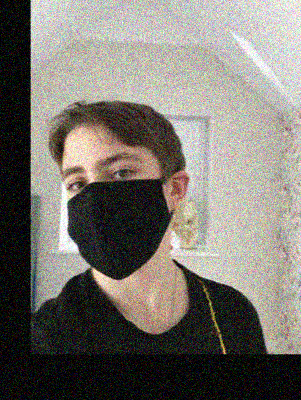with_mask: (60, 138, 172, 281)
